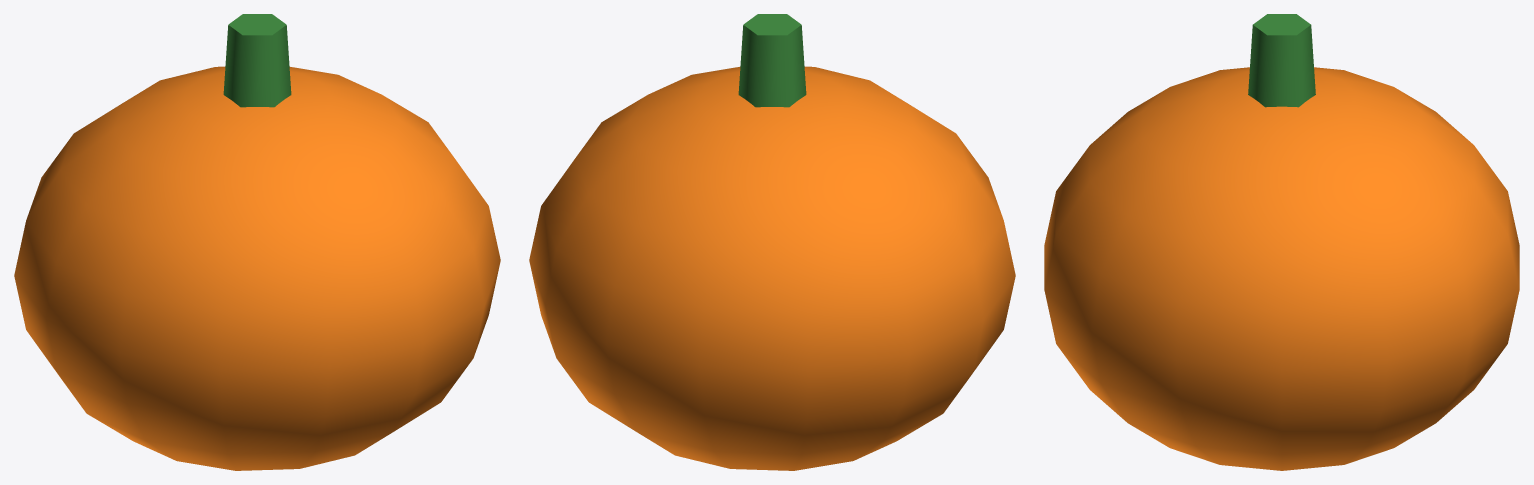
Rendered from pumpkin.glb.
The picture shows the model from 3 angles, left to right: view 1: azimuth 30°, elevation 25°; view 2: azimuth 150°, elevation 25°; view 3: azimuth 270°, elevation 25°; orthographic projection.
Visible parts, largest first — view 1: pumpkin; view 2: pumpkin; view 3: pumpkin.
Part boxes in pixels (left/top/right/bottom): pumpkin: left=14, top=14, right=500, bottom=470; pumpkin: left=529, top=14, right=1015, bottom=470; pumpkin: left=1044, top=14, right=1519, bottom=470.
Size of the model in its own units: 0.7 by 0.665 by 0.6824.
